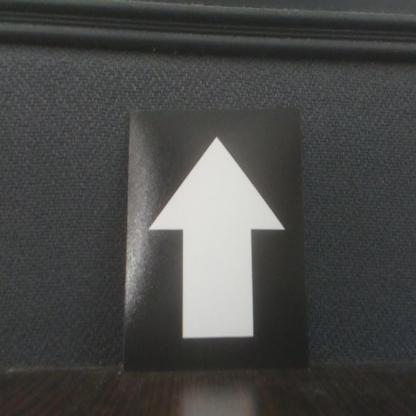up: (130, 110, 308, 372)
